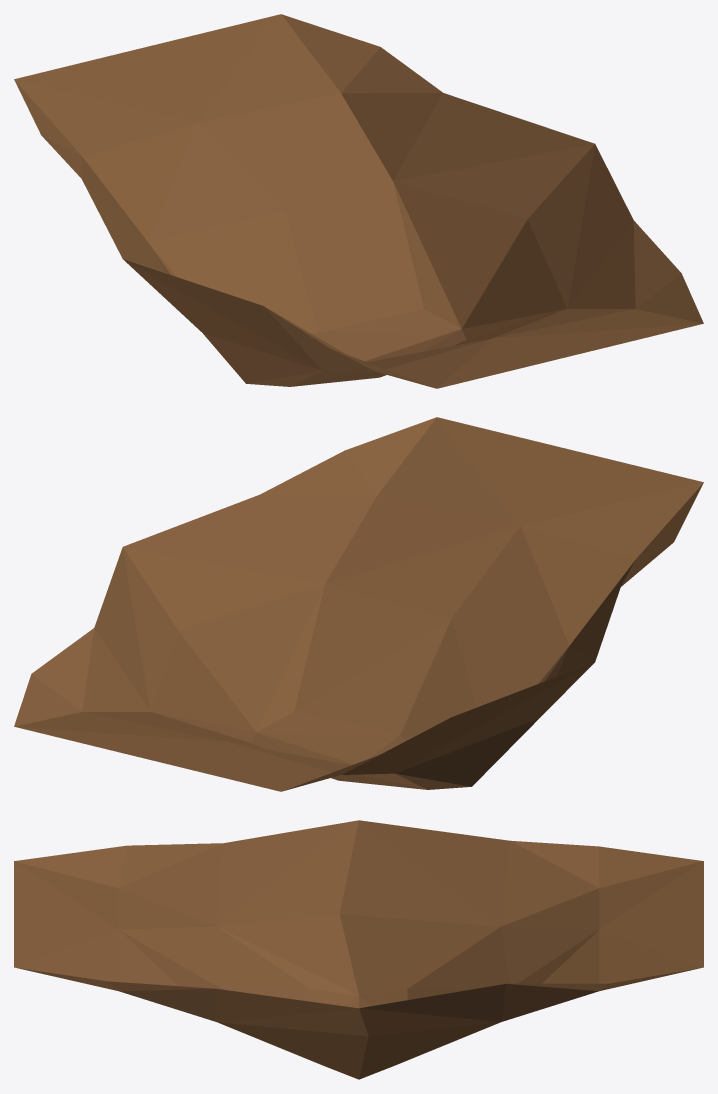
Rendered from mountn.obj.
3 views of the same model, one above another, from view 1: azimuth 30°, elevation 25°; view 2: azimuth 150°, elevation 25°; view 3: azimuth 270°, elevation 25° (orthographic). The views are drawn at different scales.
Size of the model in its own units: 4600 by 1504 by 7132.
